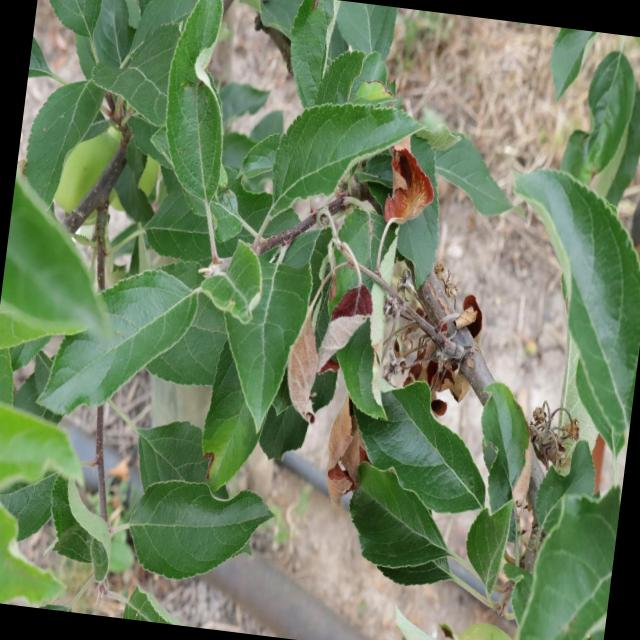-FireBlight-: (498, 394, 562, 598), (392, 288, 486, 395), (314, 258, 377, 370), (280, 307, 328, 430), (382, 140, 446, 228), (322, 396, 372, 499)
